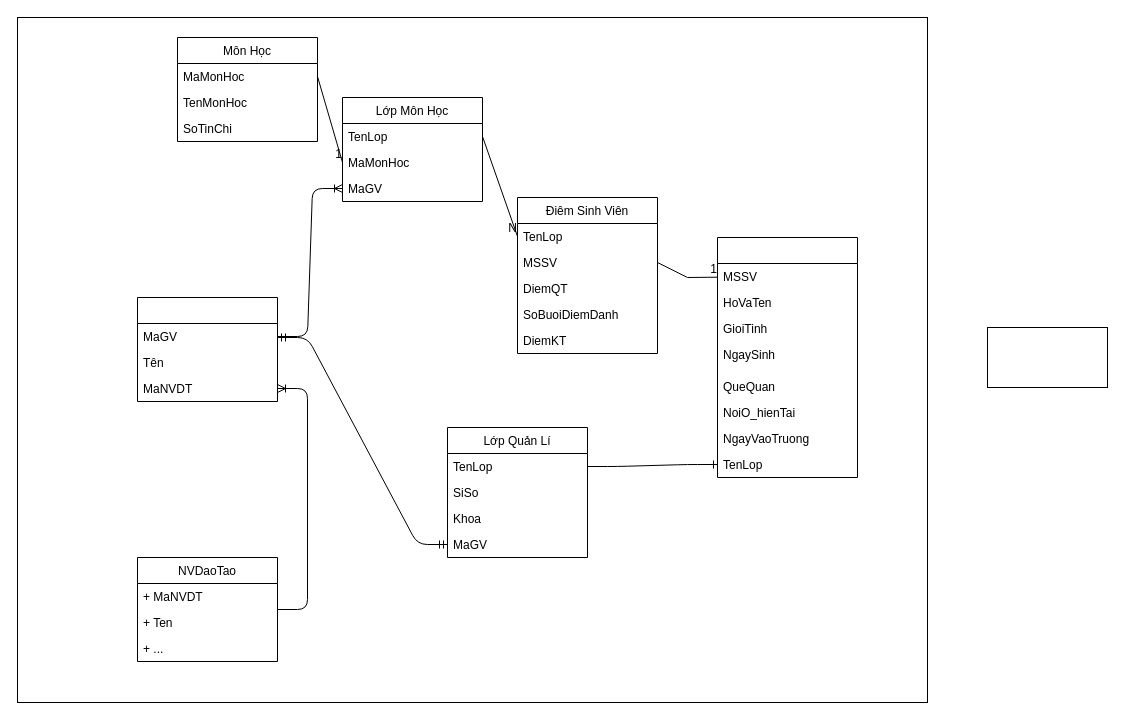
Some shapes in this 1125 by 720 pixel diagram are drawn without their labels. Here are the shapes that lost their labels. From the top down, the box of each, then its label:
(136, 296, 278, 402): Giảng Viên
(716, 236, 858, 478): Sinh Viên
(986, 326, 1108, 388): User + Pass
